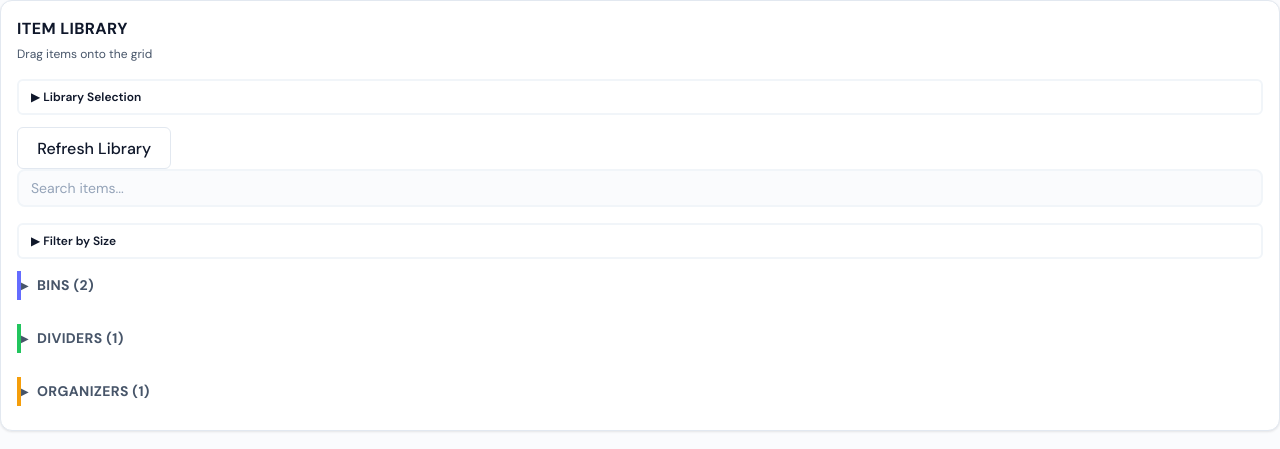
Test case: ItemLibrary › should clear search when clear button clicked
In the field with placeholder "Search items...": [640, 188] box [17,169,1263,207], type "test"
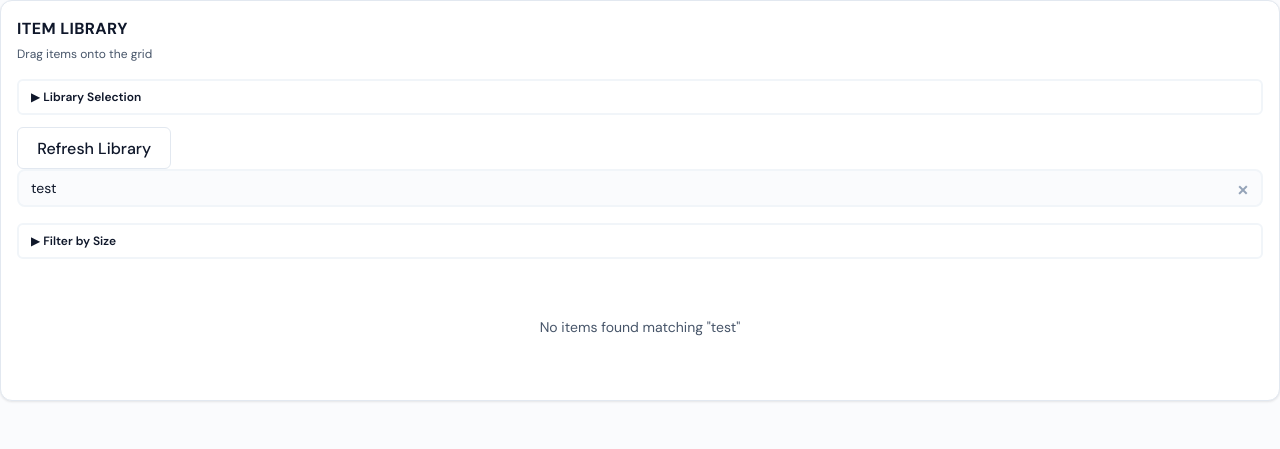
Click the button named "Clear search": [1243, 188] box [1231,176,1255,200]
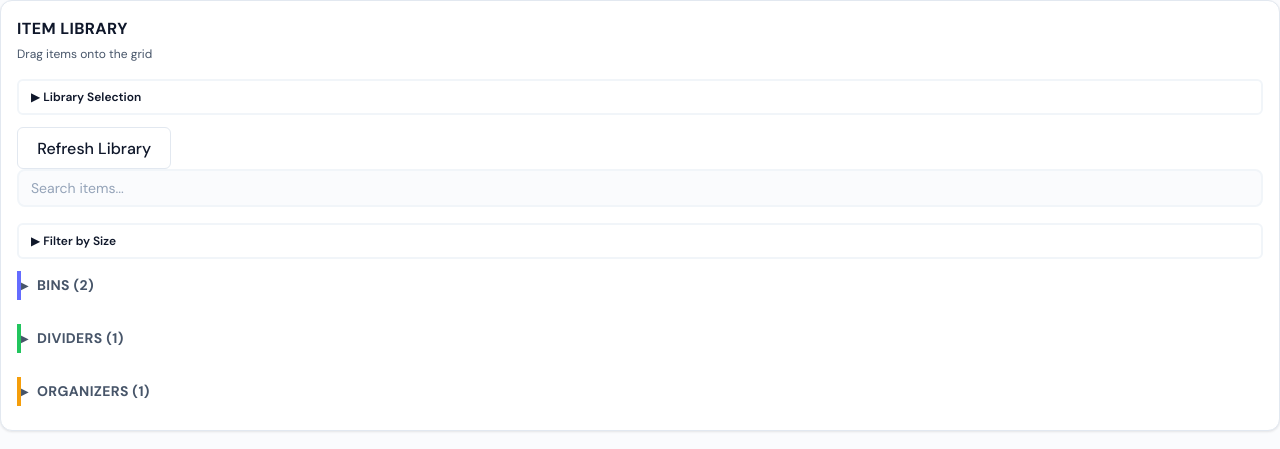
Check: the field with placeholder "Search items..." is empty, box [17,169,1263,207]
